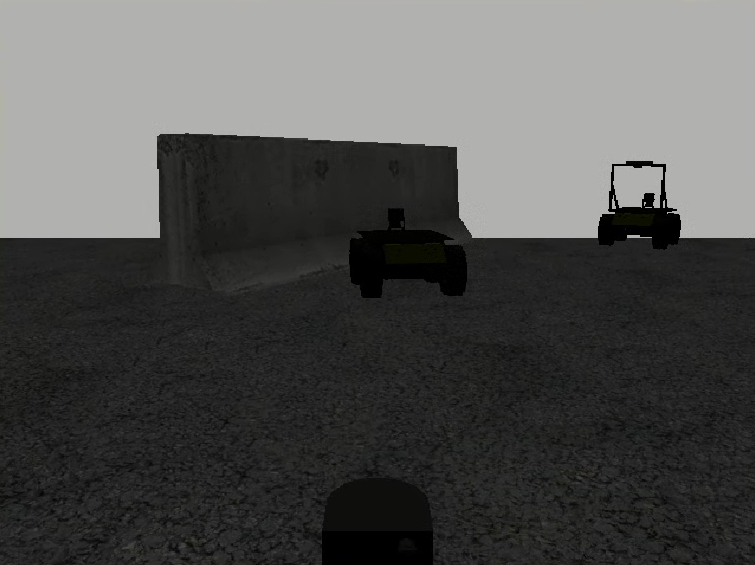husky: (349, 229, 467, 299), (597, 207, 682, 249)
